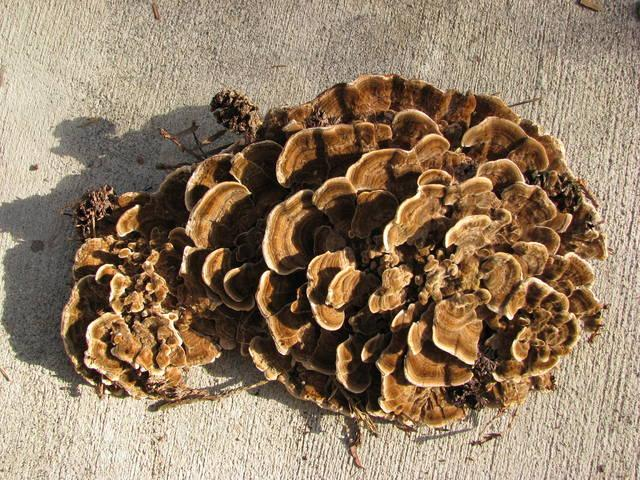poisonous_mushroom: (59, 73, 611, 443)
